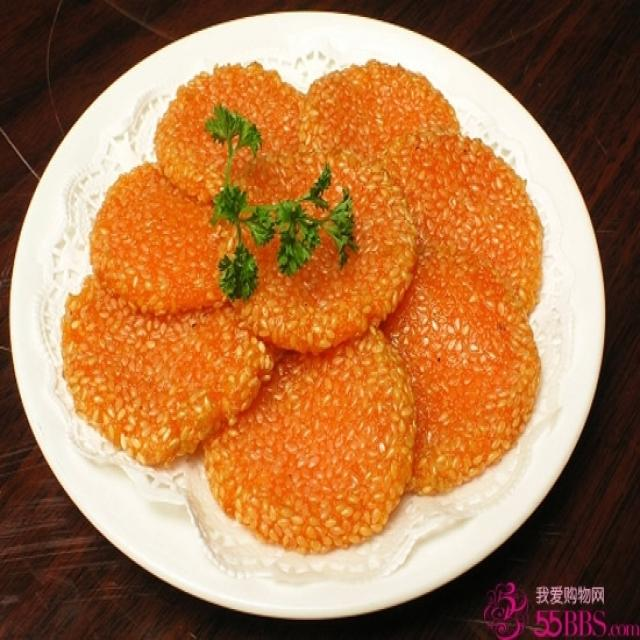炸货点心: (37, 39, 597, 629)
蛋糕甜品: (37, 39, 597, 629)
